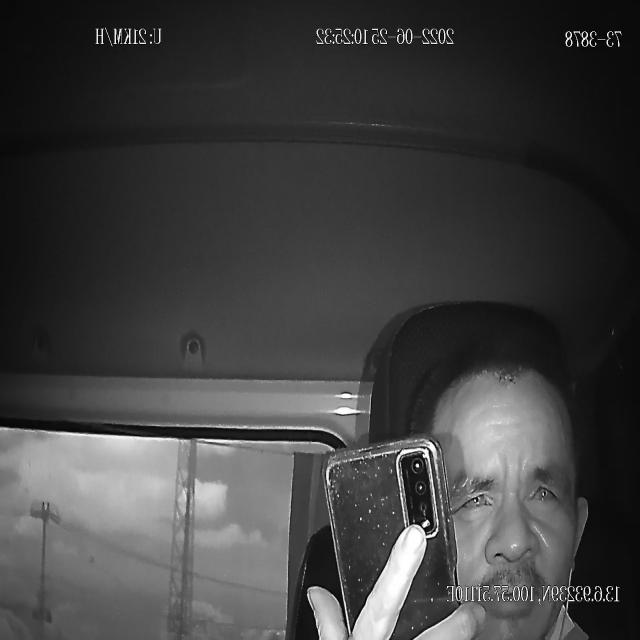phone: (321, 435, 461, 640)
